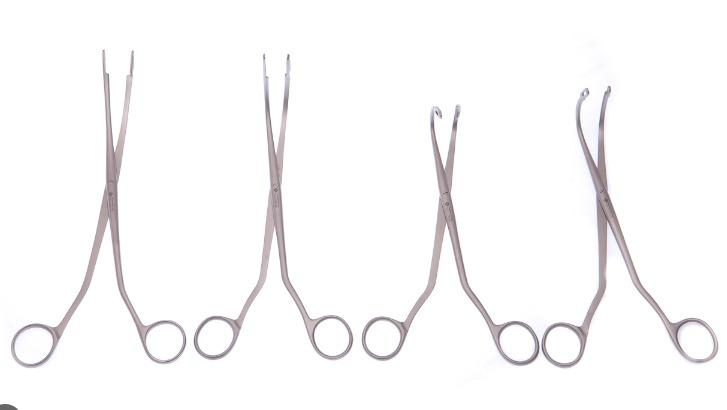Randall: (542, 67, 716, 372)
